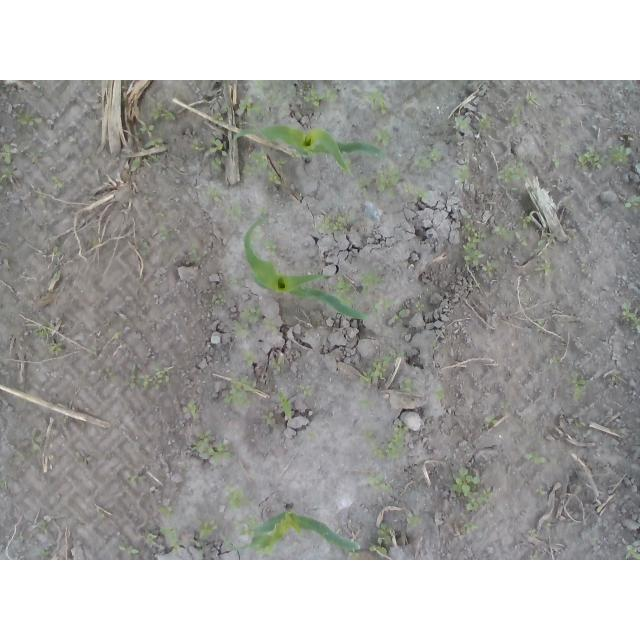Maize: (243, 219, 372, 324), (232, 124, 384, 179), (248, 500, 362, 552)
Weeds: (354, 158, 401, 202), (453, 466, 496, 512), (362, 420, 410, 461), (463, 223, 498, 272), (239, 148, 285, 185), (190, 430, 235, 466), (360, 351, 408, 384), (192, 137, 229, 176), (234, 304, 272, 337), (224, 376, 256, 408), (499, 160, 529, 193), (128, 368, 171, 391), (368, 520, 392, 555), (317, 211, 351, 234), (577, 145, 606, 171), (415, 143, 443, 169), (369, 300, 405, 320), (366, 86, 391, 114), (335, 274, 356, 305), (305, 89, 338, 108), (359, 272, 385, 296), (146, 102, 177, 122), (623, 300, 640, 335), (607, 145, 634, 167), (224, 485, 246, 511), (239, 96, 265, 118), (367, 473, 394, 494), (454, 160, 475, 185), (160, 527, 181, 552), (0, 142, 12, 185), (15, 110, 42, 129), (275, 391, 294, 418), (575, 378, 593, 402), (198, 520, 218, 541), (372, 127, 393, 146), (404, 182, 428, 198), (224, 539, 247, 554), (534, 259, 554, 276), (622, 542, 640, 560), (181, 400, 199, 417), (158, 224, 175, 241), (241, 518, 257, 536), (207, 184, 225, 200), (210, 288, 226, 306), (224, 207, 242, 222), (495, 225, 513, 240), (452, 115, 471, 129), (98, 368, 114, 384), (254, 81, 271, 96), (263, 238, 277, 256), (137, 121, 155, 135), (401, 375, 415, 393), (477, 112, 492, 128), (51, 175, 65, 192), (47, 340, 65, 353), (127, 473, 145, 486), (159, 505, 177, 518), (511, 105, 521, 128), (129, 159, 144, 174), (514, 230, 528, 246), (527, 453, 545, 465), (32, 431, 41, 455), (625, 195, 640, 209), (191, 248, 204, 264), (546, 356, 563, 368), (143, 137, 163, 147), (463, 523, 481, 534), (144, 531, 157, 546), (33, 326, 49, 338), (243, 352, 255, 368), (343, 159, 353, 177), (31, 547, 49, 557), (262, 411, 274, 425), (574, 418, 586, 431), (521, 215, 532, 229), (127, 545, 142, 555), (272, 360, 283, 373), (303, 385, 313, 399), (567, 228, 578, 240), (486, 415, 499, 425), (434, 388, 444, 401), (143, 239, 150, 257), (53, 247, 64, 258), (559, 143, 570, 154), (212, 111, 224, 121), (356, 400, 369, 409), (407, 516, 416, 528), (289, 150, 302, 158), (111, 332, 122, 341), (151, 155, 162, 164), (32, 151, 41, 161), (552, 160, 560, 169), (538, 240, 546, 249), (528, 96, 541, 101), (294, 528, 302, 536), (88, 346, 96, 354), (416, 304, 424, 312), (304, 80, 311, 89), (223, 103, 229, 111), (0, 480, 4, 488)
